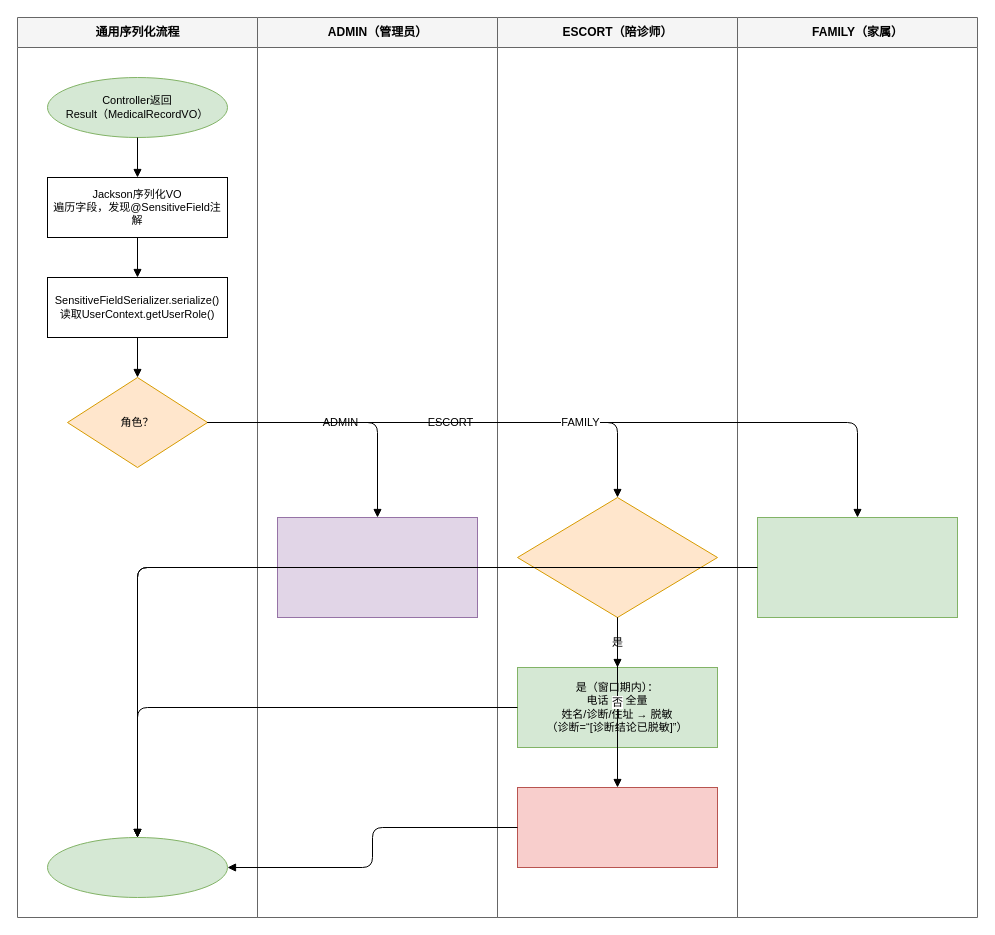
Image size: 995x935. Some labels were removed from this diagram. Each missing label, with the centre of its shape:
"JSON序列化完成 → 返回给前端" goes at pixel 137 867.
"全量返回原始值 （身份证号经服务端解密 明文返回，仅限归属本人档案）" goes at pixel 857 567.
"否（窗口期外）： 电话 → 138****1111 姓名/诊断/住址 → 脱敏 （诊断=“[诊断结论已脱敏]”）" goes at pixel 617 827.
"按脱敏规则返回： 诊断 → “[诊断结论已脱敏]” 姓名/电话/住址 → 对应规则脱敏 （审核详情idCard解密例外，见4.5.3）" goes at pixel 377 567.
"窗口期判断：存在状态为 ACCEPTED/IN_SERVICE 的关联escort_order？" goes at pixel 617 557.
